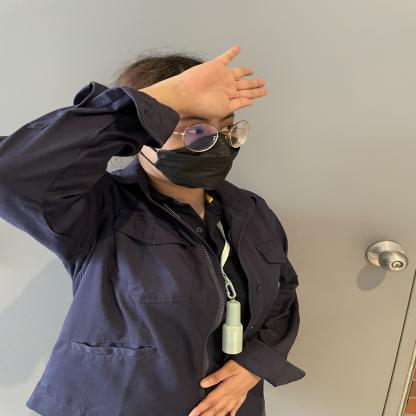Sick: (82, 32, 297, 135)
